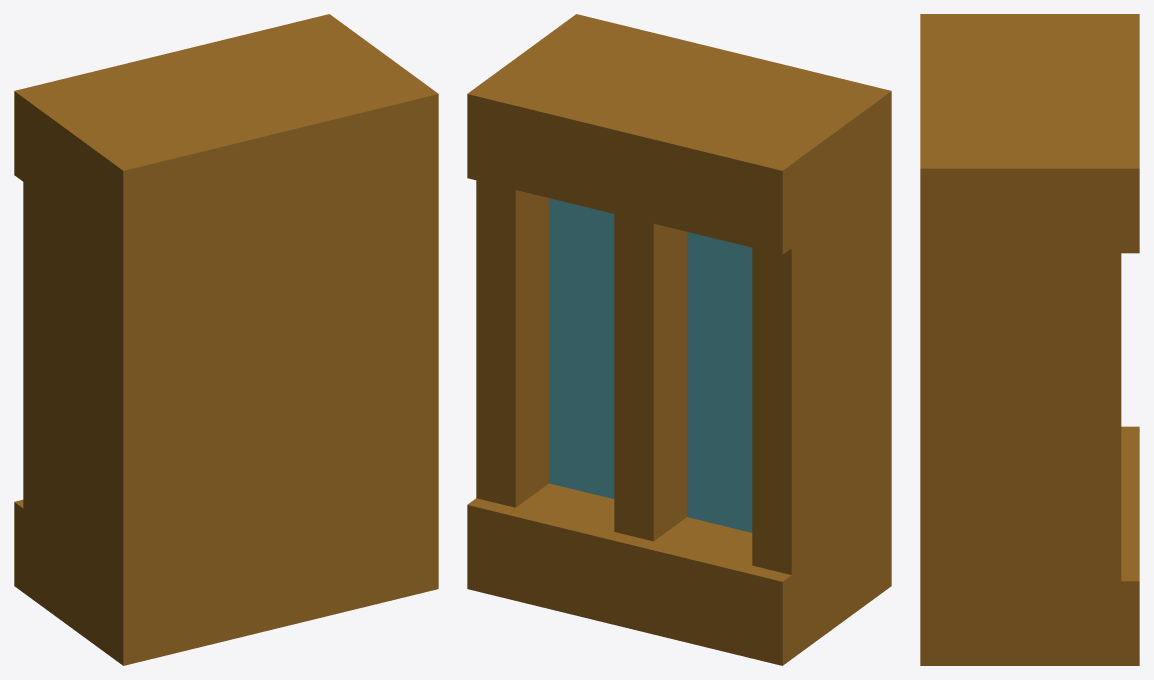
Rendered from house_08.FBX.
3 renders of one model, left to right at view 1: azimuth 30°, elevation 25°; view 2: azimuth 150°, elevation 25°; view 3: azimuth 270°, elevation 25°, orthographic.
Parts seen in each view (by area): view 1: Box040; view 2: Box040; view 3: Box040.
Boxes of the visible parts, x1,y1,x2,y2 form: Box040: [14, 14, 438, 665]; Box040: [467, 14, 891, 665]; Box040: [920, 14, 1139, 665].
Bounding box in the file's own units: 21.02 × 31.53 × 12.61.
Materials: 1 (1 with a texture image).
